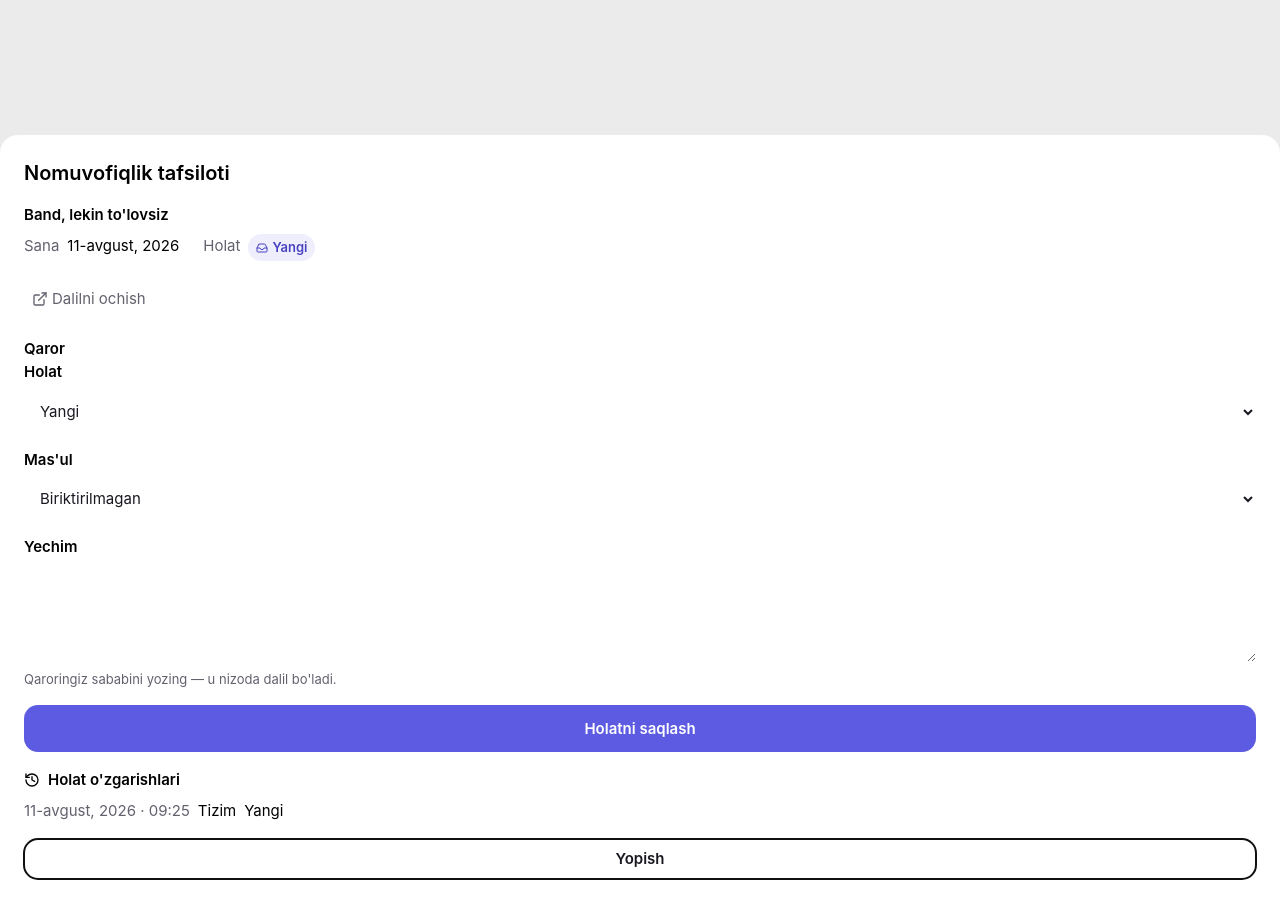
Test: ⛔ B-5: HAR saqlash xatosi ekranda MATN bilan ko'rinadi › ⛔ NAZORAT: NOMLANGAN kod hamon sabab+tuzatish JUFTLIGINI chizadi
This screenshot has width=1280, height=900.
Select "Ko'rilmoqda" in the dropdown labelled "Holat" at x=640, y=412, box x1=24 y1=392 x2=1256 y2=432
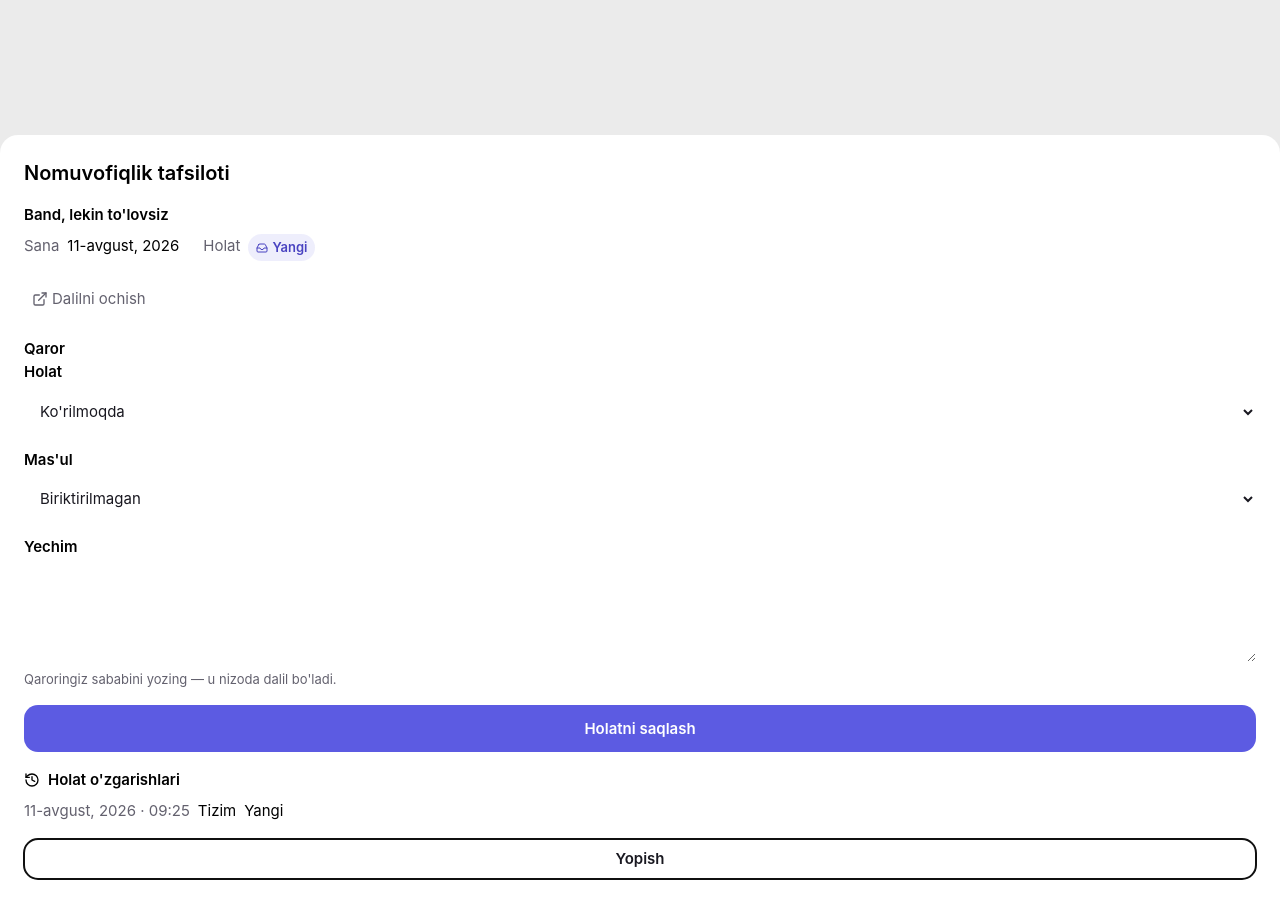
Click the button "Holatni saqlash".
click(640, 729)  # box x1=24 y1=705 x2=1256 y2=752
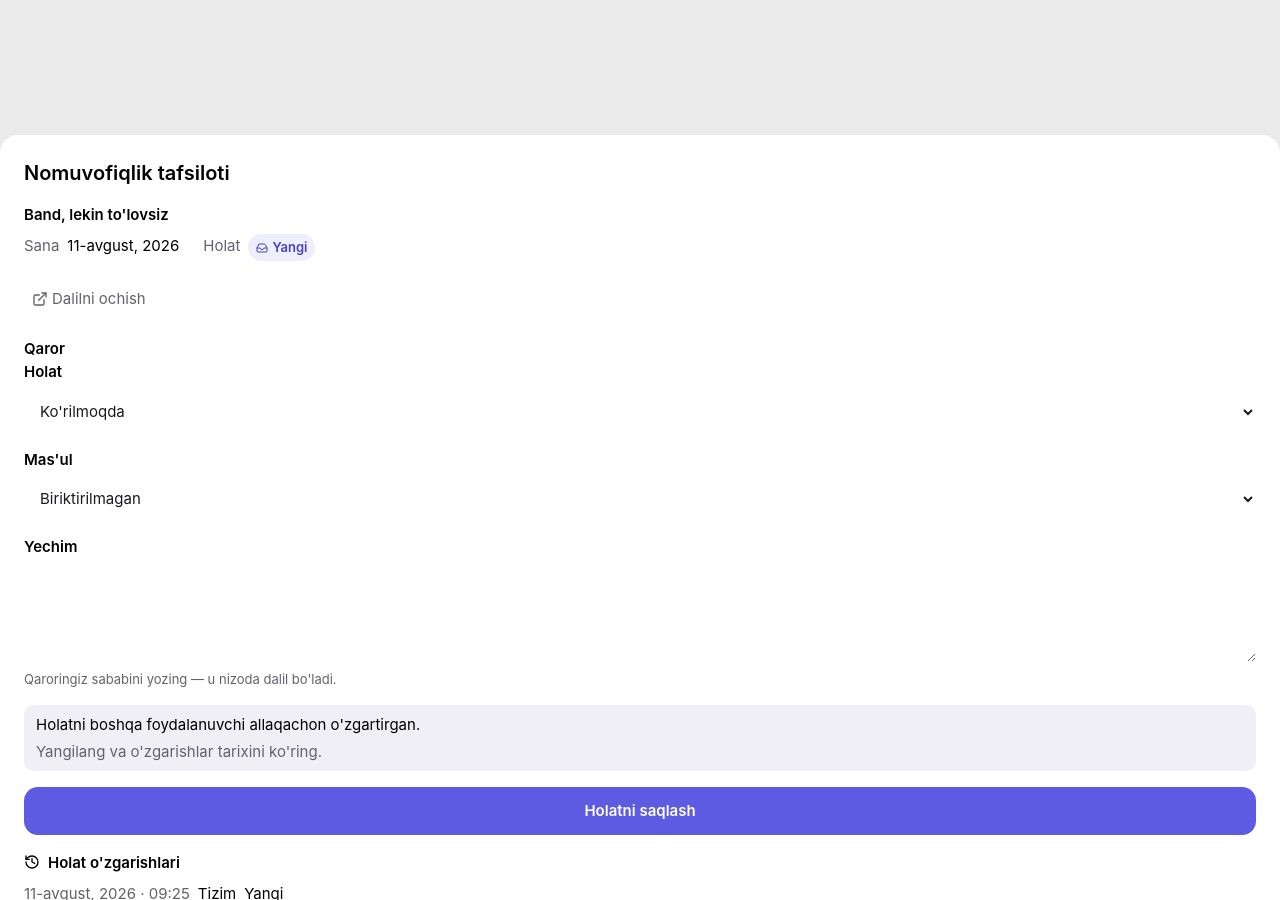
Expected: the message shows "Holatni boshqa foydalanuvchi allaqachon o'zgartirgan.", x1=36 y1=715 x2=420 y2=734
Expected: the message shows "Yangilang va o'zgarishlar tarixini ko'ring.", x1=36 y1=742 x2=322 y2=761
